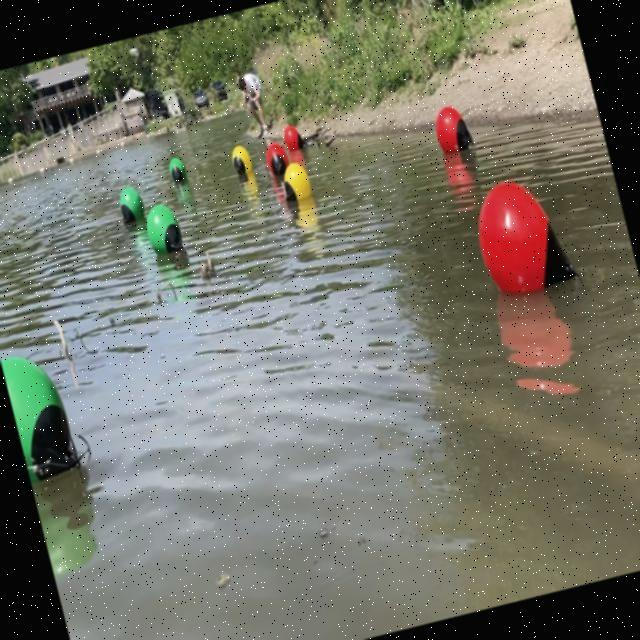buoy: (467, 168, 580, 302), (0, 346, 82, 485), (142, 200, 186, 260), (430, 100, 474, 155), (278, 160, 314, 204), (116, 183, 147, 226), (262, 139, 292, 179), (230, 143, 253, 177), (282, 122, 306, 152), (166, 155, 189, 185)
